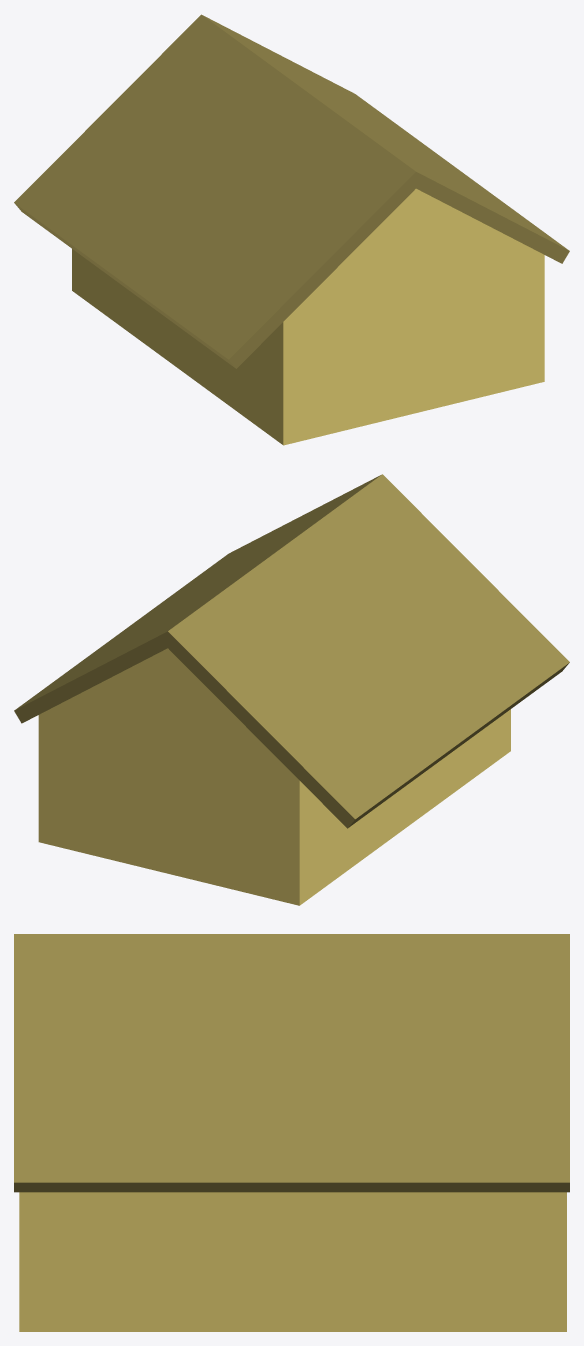
The model's file is result.glb.
3 renders of one model, top to bottom at view 1: azimuth 30°, elevation 25°; view 2: azimuth 150°, elevation 25°; view 3: azimuth 270°, elevation 25°, orthographic. The views are drawn at different scales.
Visible parts, largest first — view 1: 650f6302-cfa6-4e43-aa0e-45fa0b8d525d__undefined (×2), 527f35c2-38fa-45cb-9e42-1c123514fd00__undefined; view 2: 650f6302-cfa6-4e43-aa0e-45fa0b8d525d__undefined (×2), 527f35c2-38fa-45cb-9e42-1c123514fd00__undefined; view 3: 650f6302-cfa6-4e43-aa0e-45fa0b8d525d__undefined, 527f35c2-38fa-45cb-9e42-1c123514fd00__undefined.
Part boxes in pixels (x1=…): 650f6302-cfa6-4e43-aa0e-45fa0b8d525d__undefined (×2): x1=14, y1=14, x2=569, y2=368; 527f35c2-38fa-45cb-9e42-1c123514fd00__undefined: x1=72, y1=188, x2=544, y2=445; 650f6302-cfa6-4e43-aa0e-45fa0b8d525d__undefined (×2): x1=14, y1=474, x2=569, y2=828; 527f35c2-38fa-45cb-9e42-1c123514fd00__undefined: x1=38, y1=648, x2=510, y2=905; 650f6302-cfa6-4e43-aa0e-45fa0b8d525d__undefined: x1=14, y1=934, x2=569, y2=1192; 527f35c2-38fa-45cb-9e42-1c123514fd00__undefined: x1=19, y1=1192, x2=566, y2=1331.
Bounding box in the file's own units: 652 × 445 × 711.
